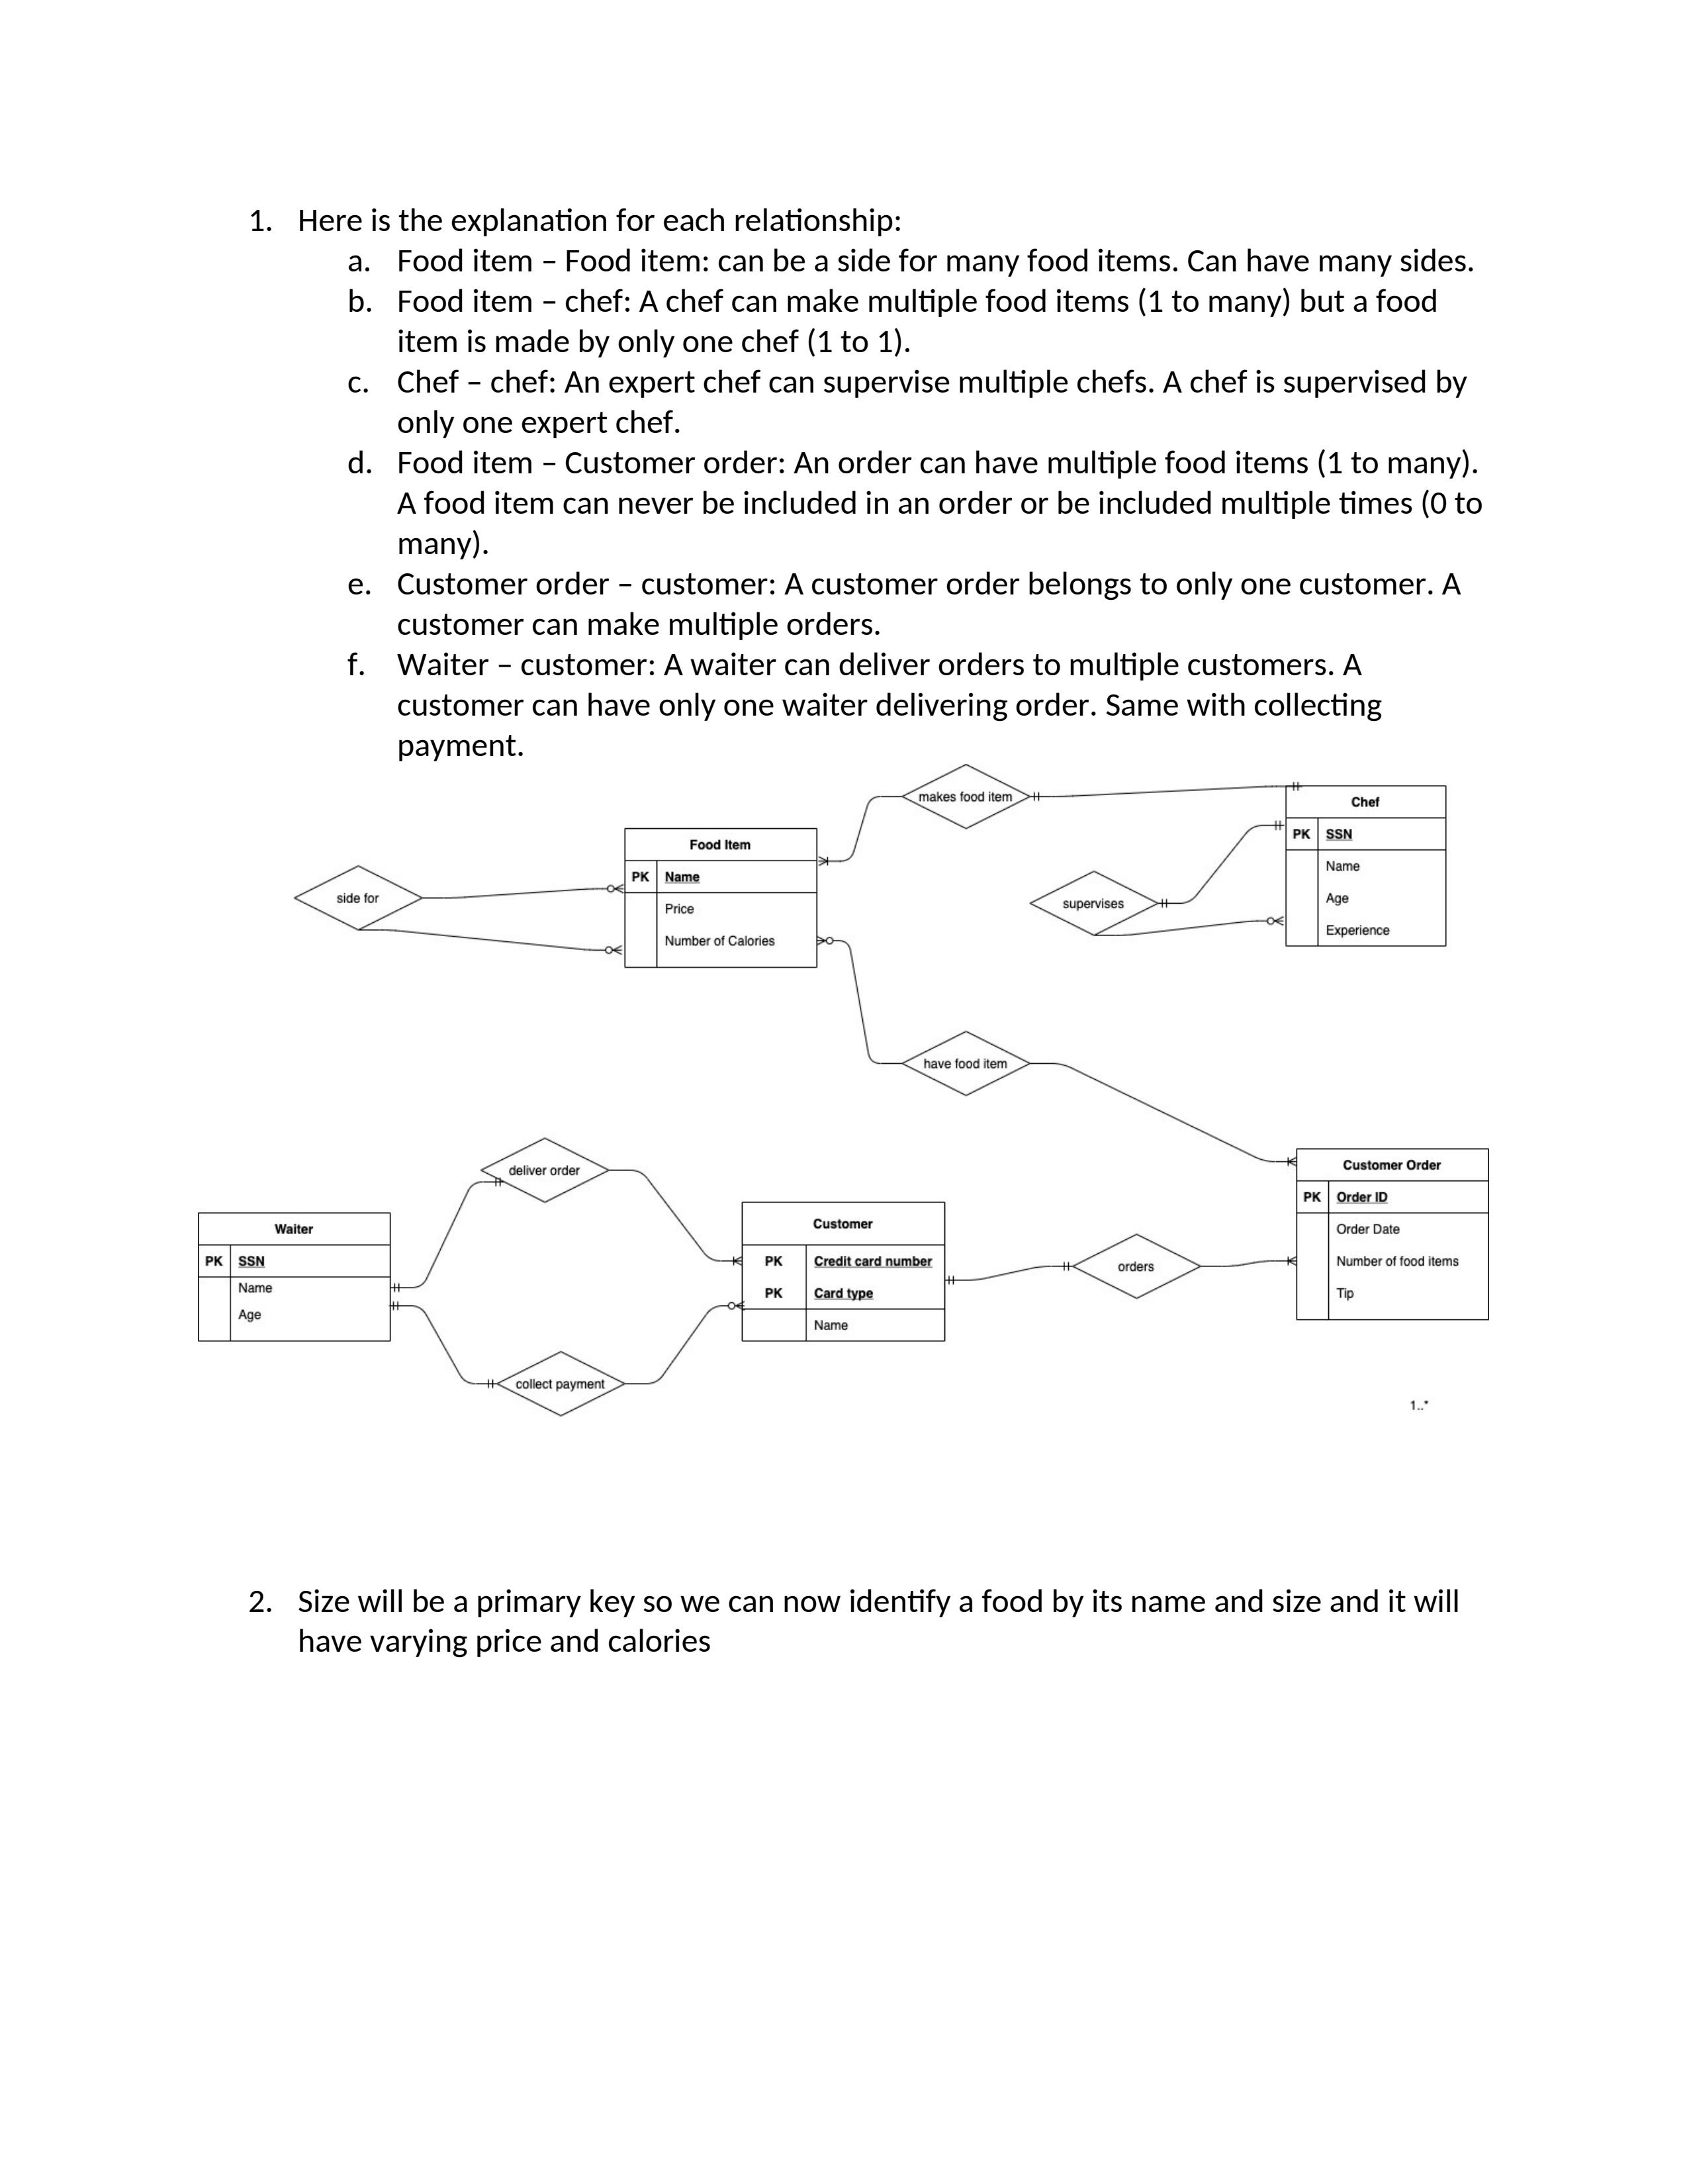Entity: (1295, 1147, 1492, 1322), (739, 1200, 950, 1344), (622, 826, 819, 970), (1285, 784, 1450, 950), (197, 1211, 393, 1345)
Relationship: (496, 1351, 626, 1418), (1030, 870, 1161, 936), (902, 1030, 1031, 1096), (480, 1138, 610, 1204), (902, 764, 1030, 830), (292, 865, 422, 929), (1072, 1234, 1201, 1298)
